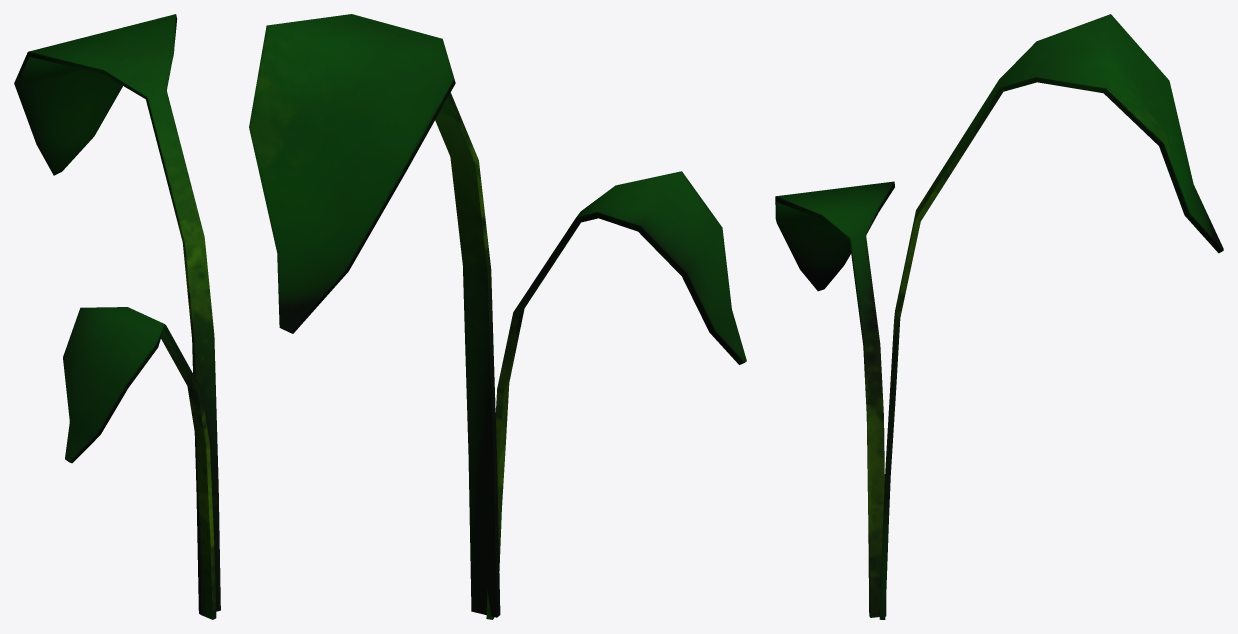
Rendered from PLantas4.fbx.
3 renders of one model, left to right at view 1: azimuth 30°, elevation 25°; view 2: azimuth 150°, elevation 25°; view 3: azimuth 270°, elevation 25°, orthographic. The views are drawn at different scales.
Visible parts, largest first — view 1: Hoja.001; view 2: Hoja.001; view 3: Hoja.001.
Boxes of the visible parts, left/top/right/bottom form: Hoja.001: left=14, top=14, right=220, bottom=619; Hoja.001: left=249, top=14, right=746, bottom=619; Hoja.001: left=775, top=14, right=1223, bottom=619.
Bounding box in the file's own units: 53.47 × 109 × 78.49.
